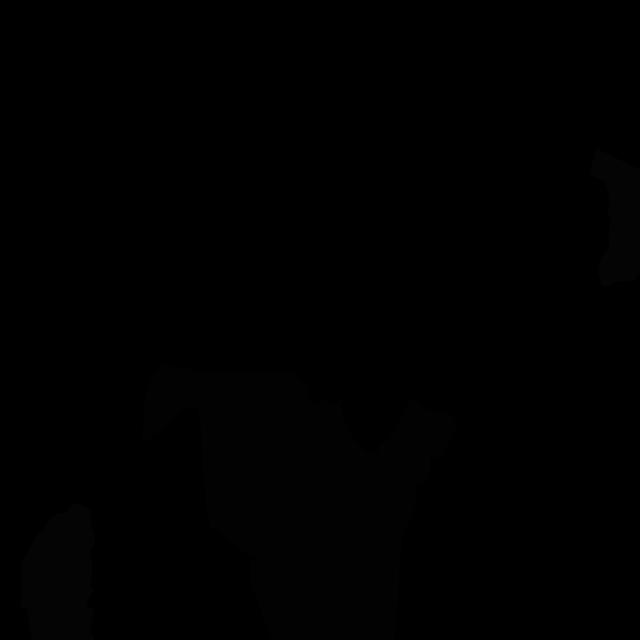cardboard: (250, 397, 458, 640), (142, 364, 313, 561)
soft_plastic: (20, 503, 95, 640), (589, 148, 640, 287)
